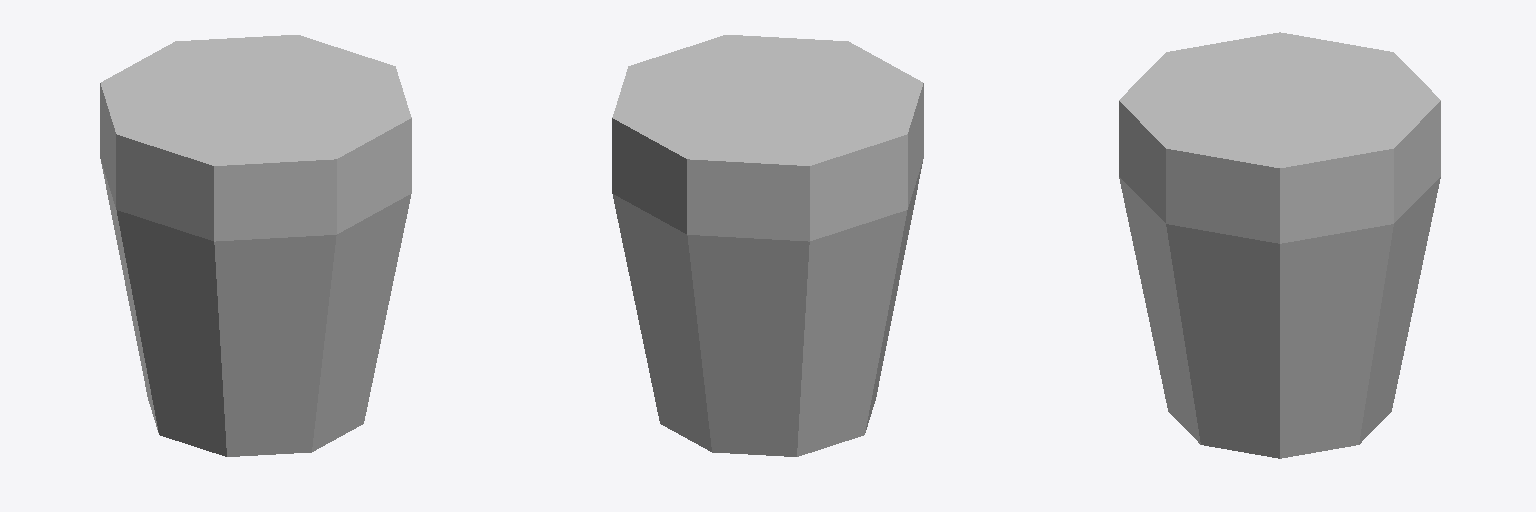
The model's file is spotlight_pbox.obj.
3 views of the same model, side by side, from view 1: azimuth 30°, elevation 25°; view 2: azimuth 150°, elevation 25°; view 3: azimuth 270°, elevation 25° (orthographic).
Parts seen in each view (by area): view 1: Cylinder.006_Cylinder.007; view 2: Cylinder.006_Cylinder.007; view 3: Cylinder.006_Cylinder.007.
Part boxes in pixels (bbox=[...]): Cylinder.006_Cylinder.007: bbox=[100, 35, 411, 456]; Cylinder.006_Cylinder.007: bbox=[612, 35, 923, 456]; Cylinder.006_Cylinder.007: bbox=[1119, 32, 1440, 458].
Size of the model in its own units: 1.04 by 1.11 by 1.04.